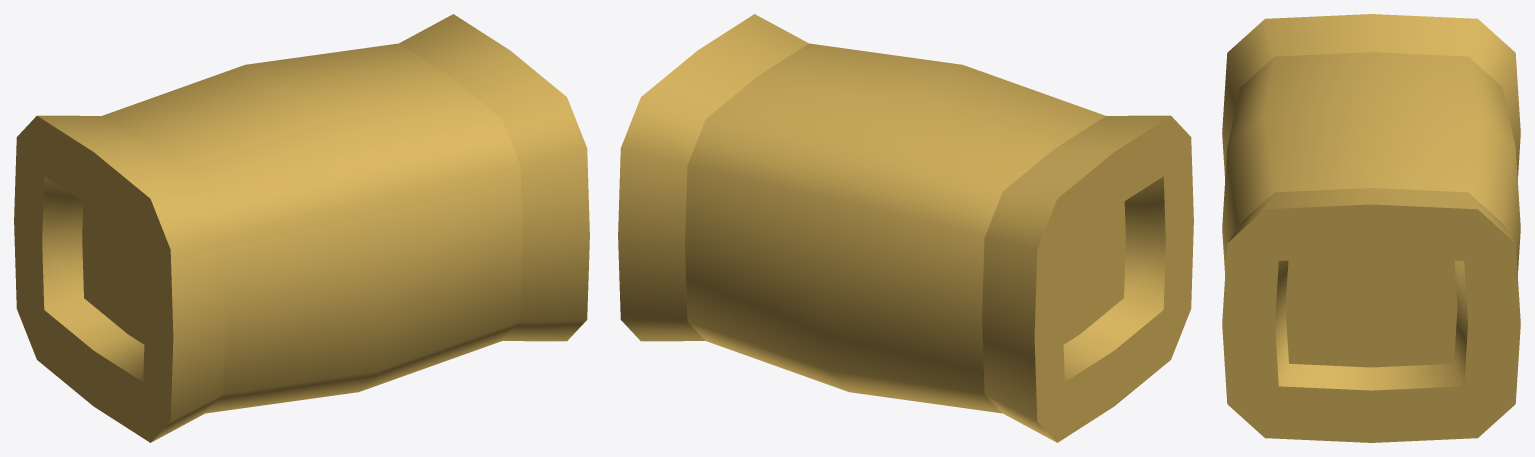
The model's file is botte-foin.glb.
The picture shows the model from 3 angles, left to right: view 1: azimuth 30°, elevation 25°; view 2: azimuth 150°, elevation 25°; view 3: azimuth 270°, elevation 25°; orthographic projection. The views are drawn at different scales.
Visible parts, largest first — view 1: hay-bale; view 2: hay-bale; view 3: hay-bale.
Boxes of the visible parts, x1,y1,x2,y2 form: hay-bale: (14, 14, 589, 442); hay-bale: (618, 14, 1193, 442); hay-bale: (1222, 14, 1520, 442).
Bounding box in the file's own units: 1.6 × 0.9341 × 1.06.
